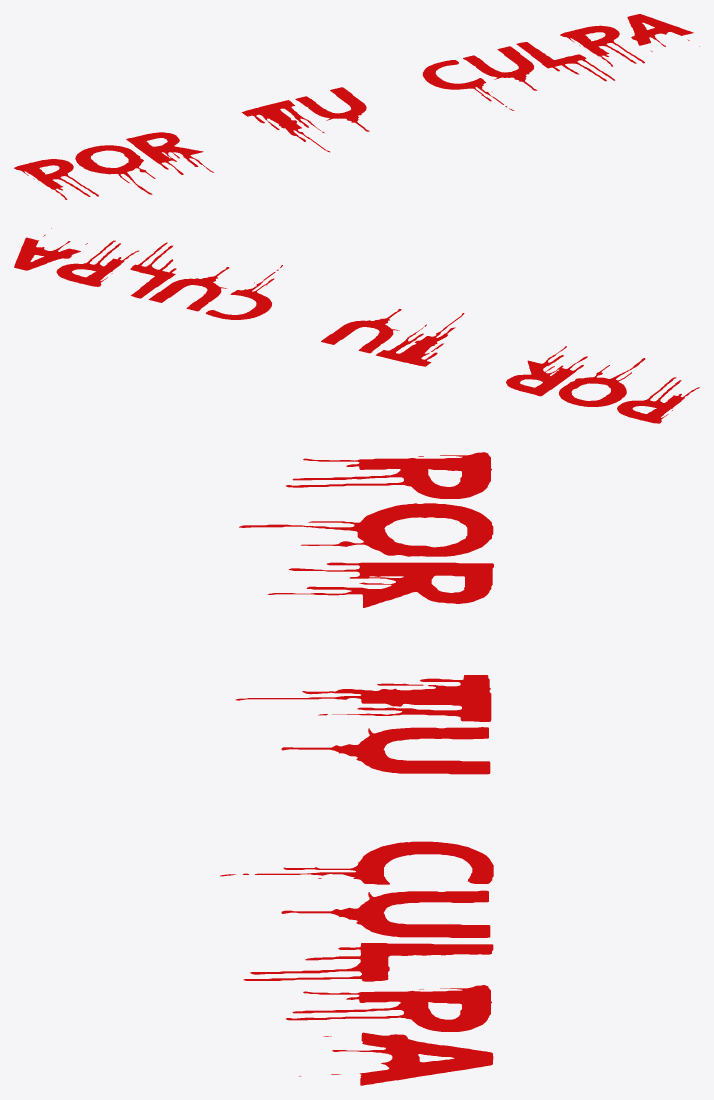
3 views of the same model, one above another, from view 1: azimuth 30°, elevation 25°; view 2: azimuth 150°, elevation 25°; view 3: azimuth 270°, elevation 25° (orthographic). The views are drawn at different scales.
Parts seen in each view (by area): view 1: Text; view 2: Text; view 3: Text.
Boxes of the visible parts, x1=… form: Text: x1=14, y1=14, x2=699, y2=199; Text: x1=14, y1=228, x2=699, y2=423; Text: x1=220, y1=452, x2=493, y2=1085.
Bounding box in the file's own units: 513 × 1.53e-05 × 93.81.
